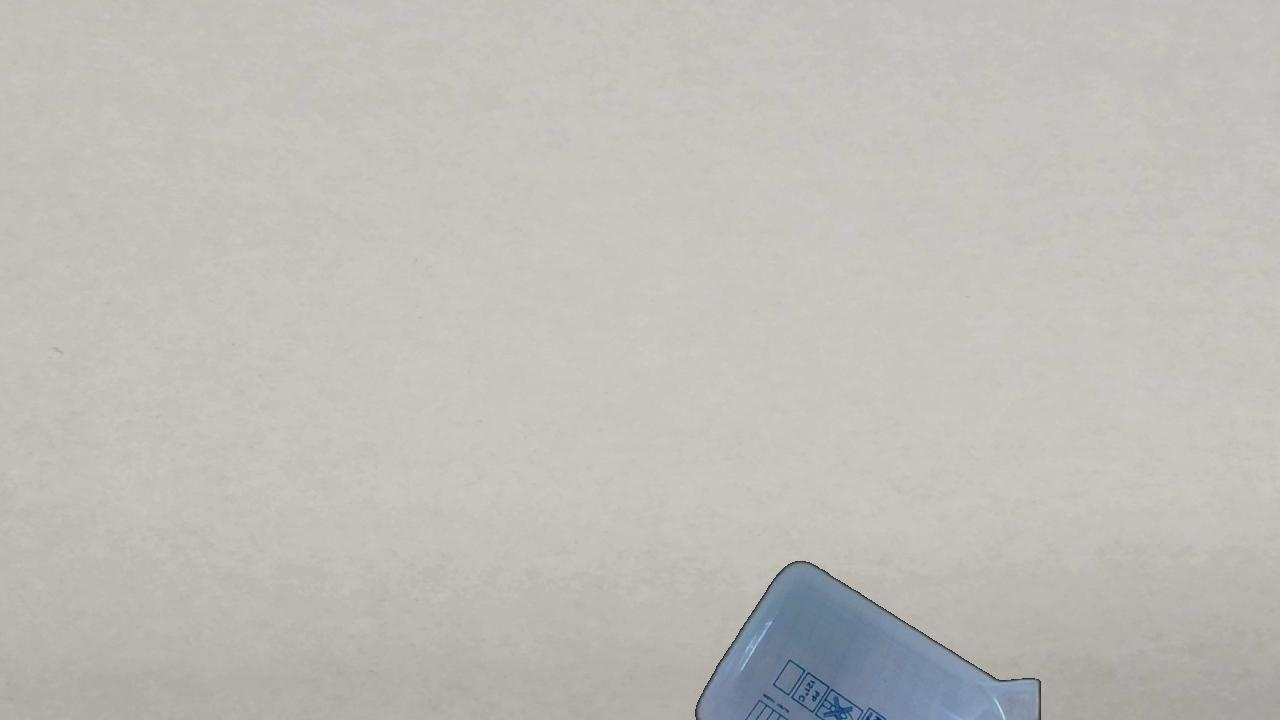becker: (694, 561, 1041, 713)
